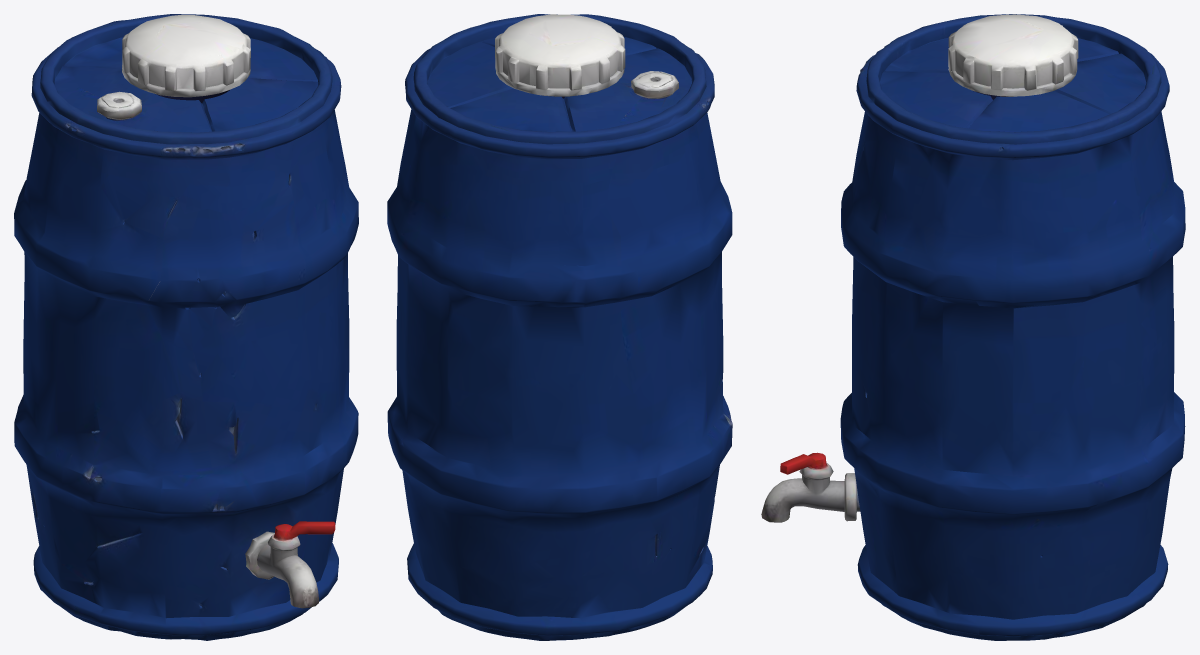
File: barrel_water_plastikovaya_200_l.glb
The picture shows the model from 3 angles, left to right: view 1: azimuth 30°, elevation 25°; view 2: azimuth 150°, elevation 25°; view 3: azimuth 270°, elevation 25°; orthographic projection.
Visible parts, largest first — view 1: body, cap; view 2: body, cap; view 3: body, cap.
Part boxes in pixels (x1,y1,x2,y2): body: (14,14,358,640); cap: (122,15,250,97); body: (387,14,732,640); cap: (496,14,625,95); body: (761,14,1185,640); cap: (948,14,1074,96).
Size of the model in its own units: 0.5139 by 0.8999 by 0.6298.
Materials: 3 (3 with a texture image).
